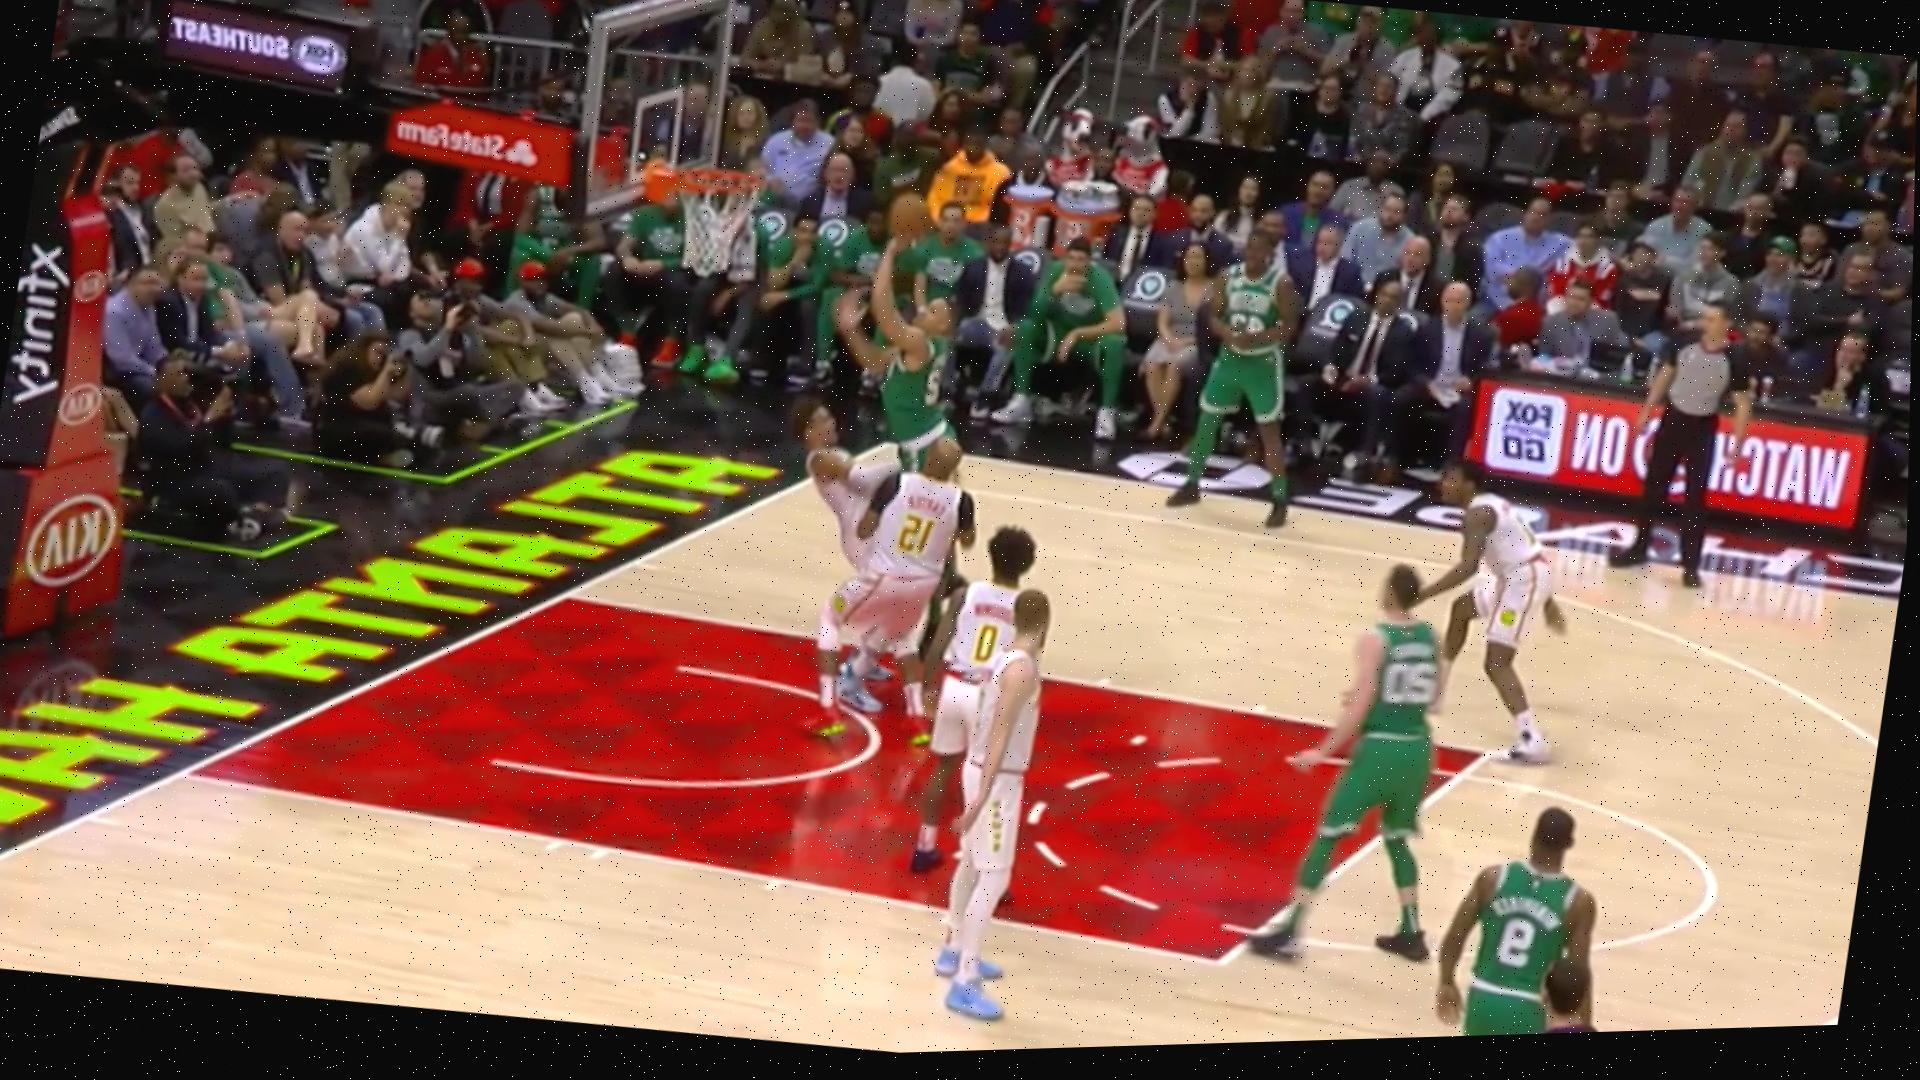foul: (777, 269, 960, 574)
